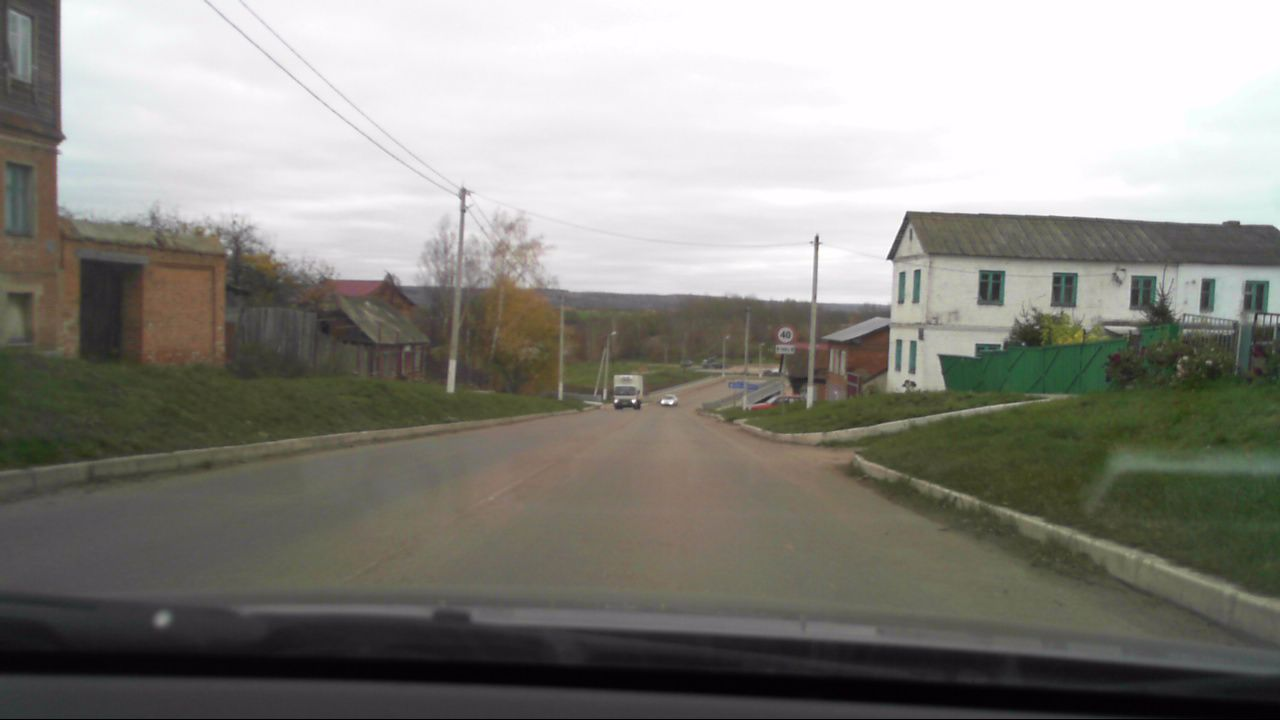speed_warning_40: (776, 325, 794, 342)
